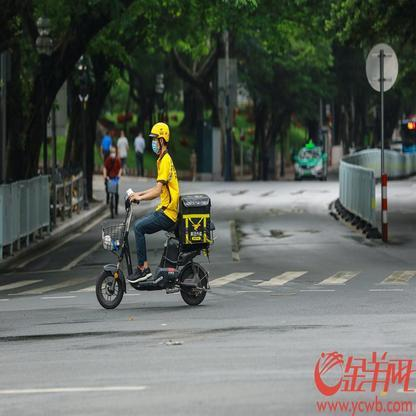target: (94, 121, 213, 310)
